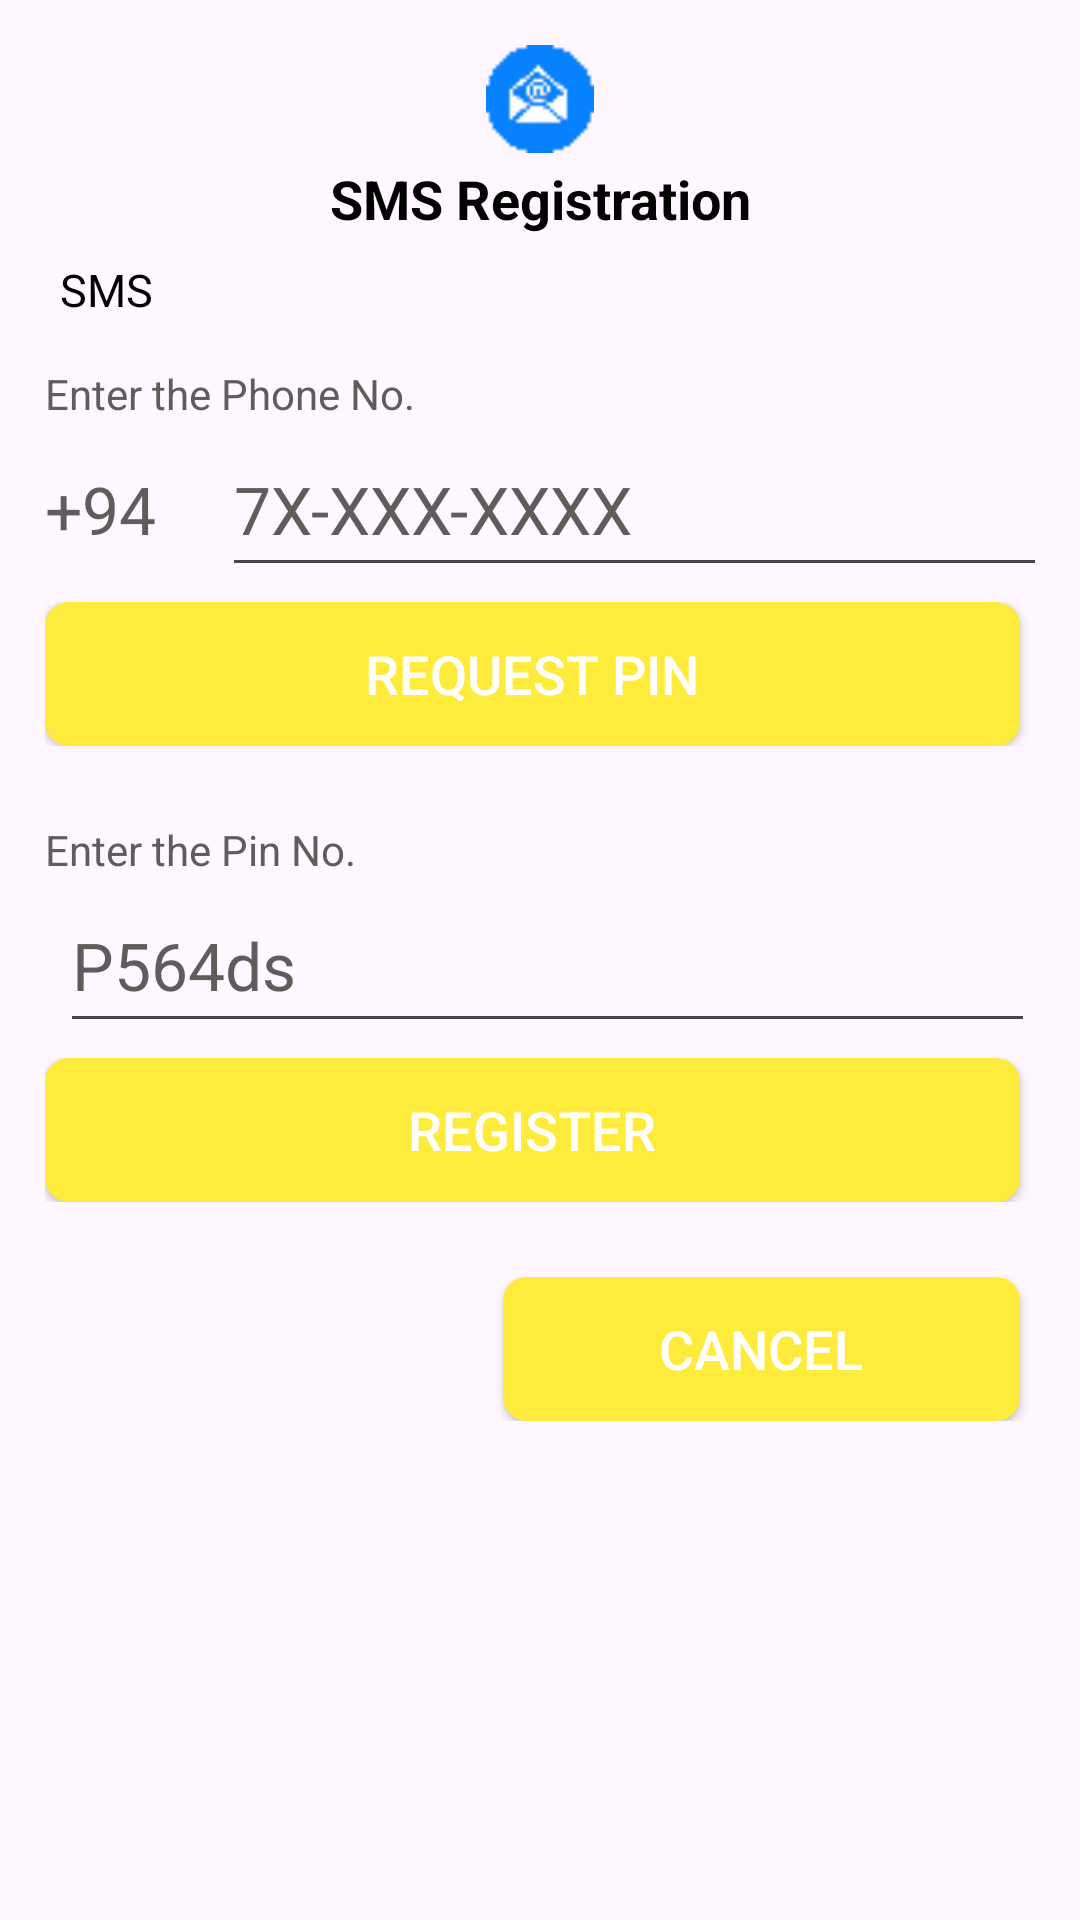

Screen size 1080 × 1920. Icon name, then its center in pixels as (x=x, y=y):
email: (x=540, y=99)
